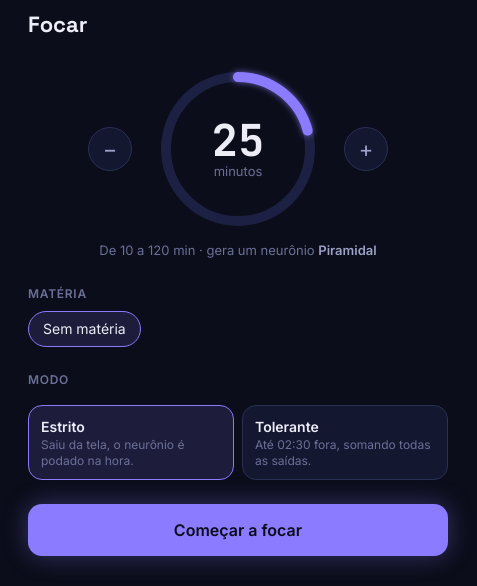
Test: tela de foco › mostra o tipo de neurônio que a duração vai gerar
The image size is (477, 586).
Expected: the text "De 10 a 120 min · gera um neurônio Piramidal" is shown, [99,242,377,258]
Click the button named "Diminuir 5 minutos".
click(110, 149)  # box [88,127,132,171]
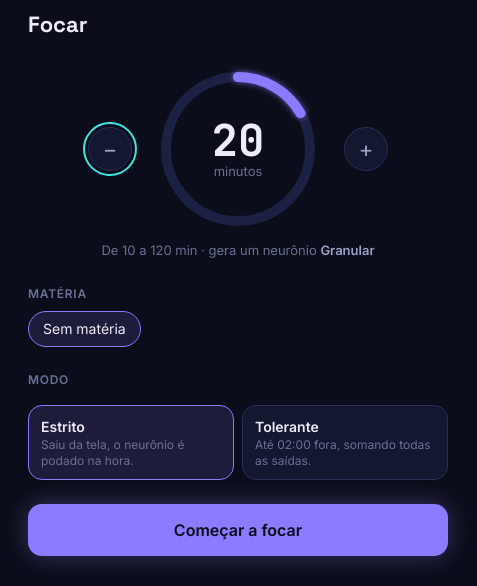
Result: the text "De 10 a 120 min · gera um neurônio Granular" is shown at [101,242,374,258]
